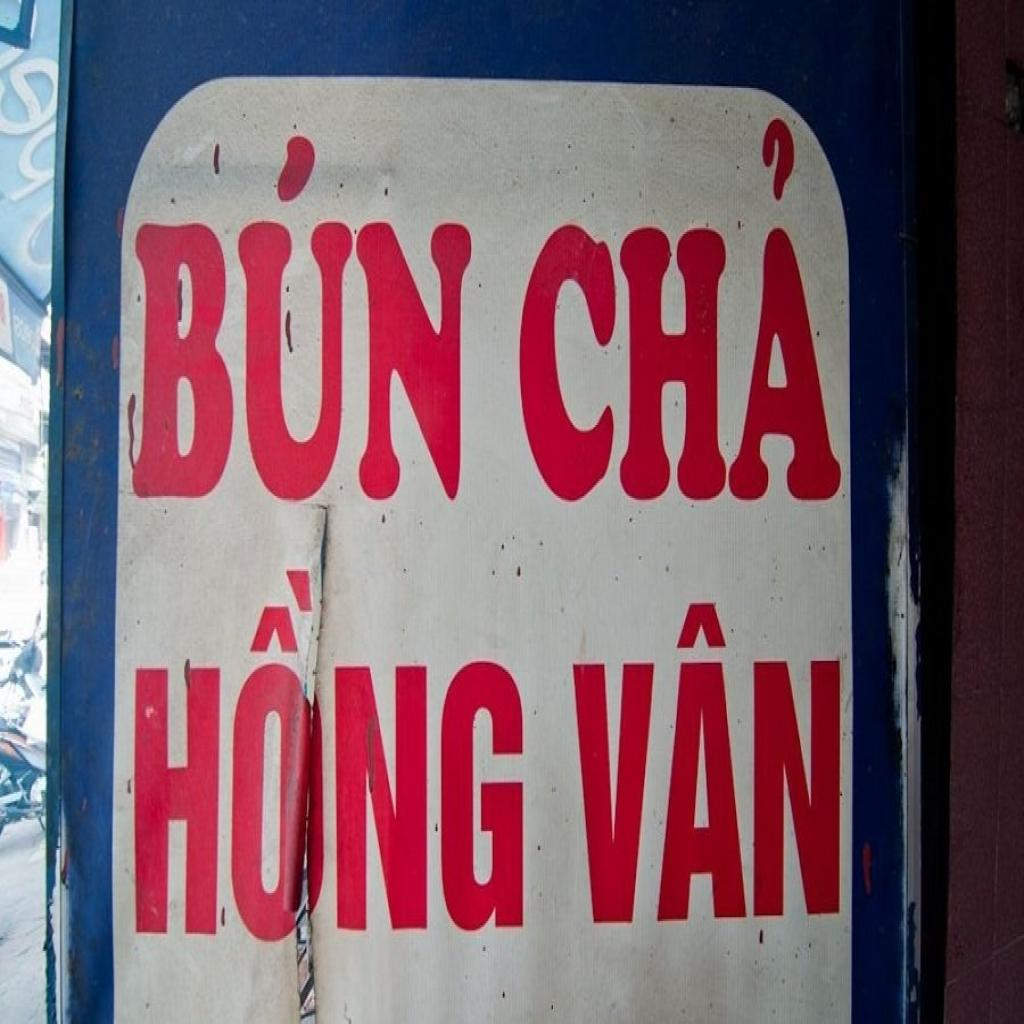text: (123, 548, 537, 954), (505, 98, 856, 518), (118, 127, 477, 530)
